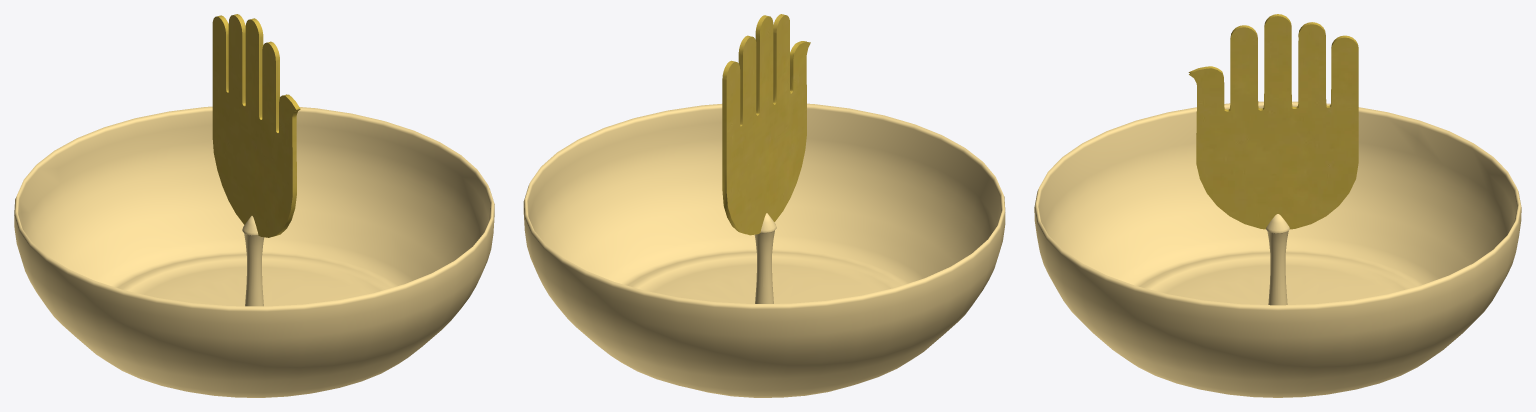
Rendered from saqakhane_bowl.glb.
The picture shows the model from 3 angles, left to right: view 1: azimuth 30°, elevation 25°; view 2: azimuth 150°, elevation 25°; view 3: azimuth 270°, elevation 25°; orthographic projection.
Parts seen in each view (by area): view 1: Object_2, Object_3; view 2: Object_2, Object_3; view 3: Object_2, Object_3.
Part boxes in pixels (x1,y1,x2,y2): Object_2: (14, 106, 494, 397); Object_3: (212, 14, 300, 237); Object_2: (523, 103, 1005, 397); Object_3: (722, 14, 810, 235); Object_2: (1034, 101, 1521, 397); Object_3: (1188, 14, 1358, 229).
Size of the model in its own units: 17.8 by 13.14 by 17.8.
2 materials, 1 textured.
